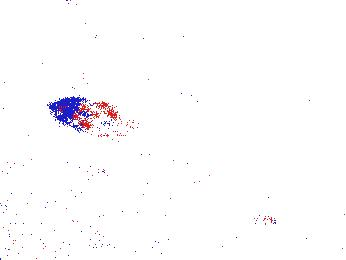X-ray fish: (44, 92, 128, 137)
red belly glassfish: (240, 212, 279, 230), (74, 163, 109, 183), (318, 77, 346, 101)
